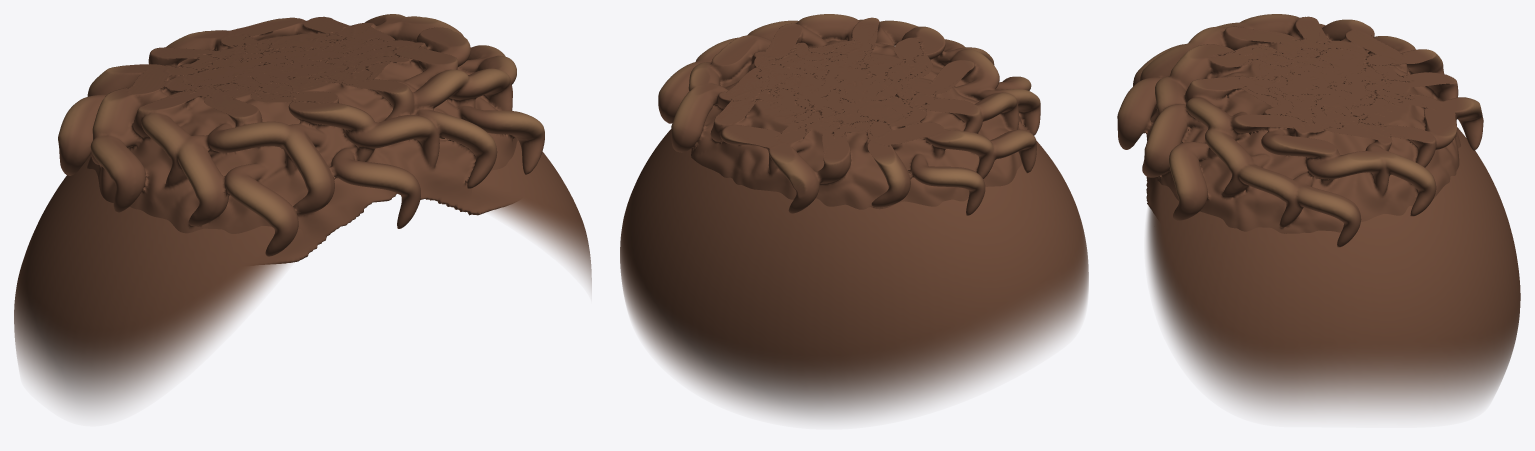
Rendered from Ombre-488d4d3bc975253-hair.glb.
3 renders of one model, left to right at view 1: azimuth 30°, elevation 25°; view 2: azimuth 150°, elevation 25°; view 3: azimuth 270°, elevation 25°, orthographic. The views are drawn at different scales.
Visible parts, largest first — view 1: 226 hair / Hair252 / sculpted curl groups.001, 226 hair / Hair252 / curly close fade coverage.001; view 2: 226 hair / Hair252 / curly close fade coverage.001, 226 hair / Hair252 / sculpted curl groups.001; view 3: 226 hair / Hair252 / curly close fade coverage.001, 226 hair / Hair252 / sculpted curl groups.001.
Part boxes in pixels (x1=…): 226 hair / Hair252 / sculpted curl groups.001: x1=58, y1=14, x2=544, y2=264; 226 hair / Hair252 / curly close fade coverage.001: x1=14, y1=49, x2=591, y2=411; 226 hair / Hair252 / curly close fade coverage.001: x1=620, y1=66, x2=1088, y2=419; 226 hair / Hair252 / sculpted curl groups.001: x1=658, y1=14, x2=1040, y2=215; 226 hair / Hair252 / curly close fade coverage.001: x1=1146, y1=62, x2=1520, y2=414; 226 hair / Hair252 / sculpted curl groups.001: x1=1117, y1=14, x2=1483, y2=247.
Bounding box in the file's own units: 0.976 × 0.673 × 0.762.
Materials: 2 (2 with a texture image).
